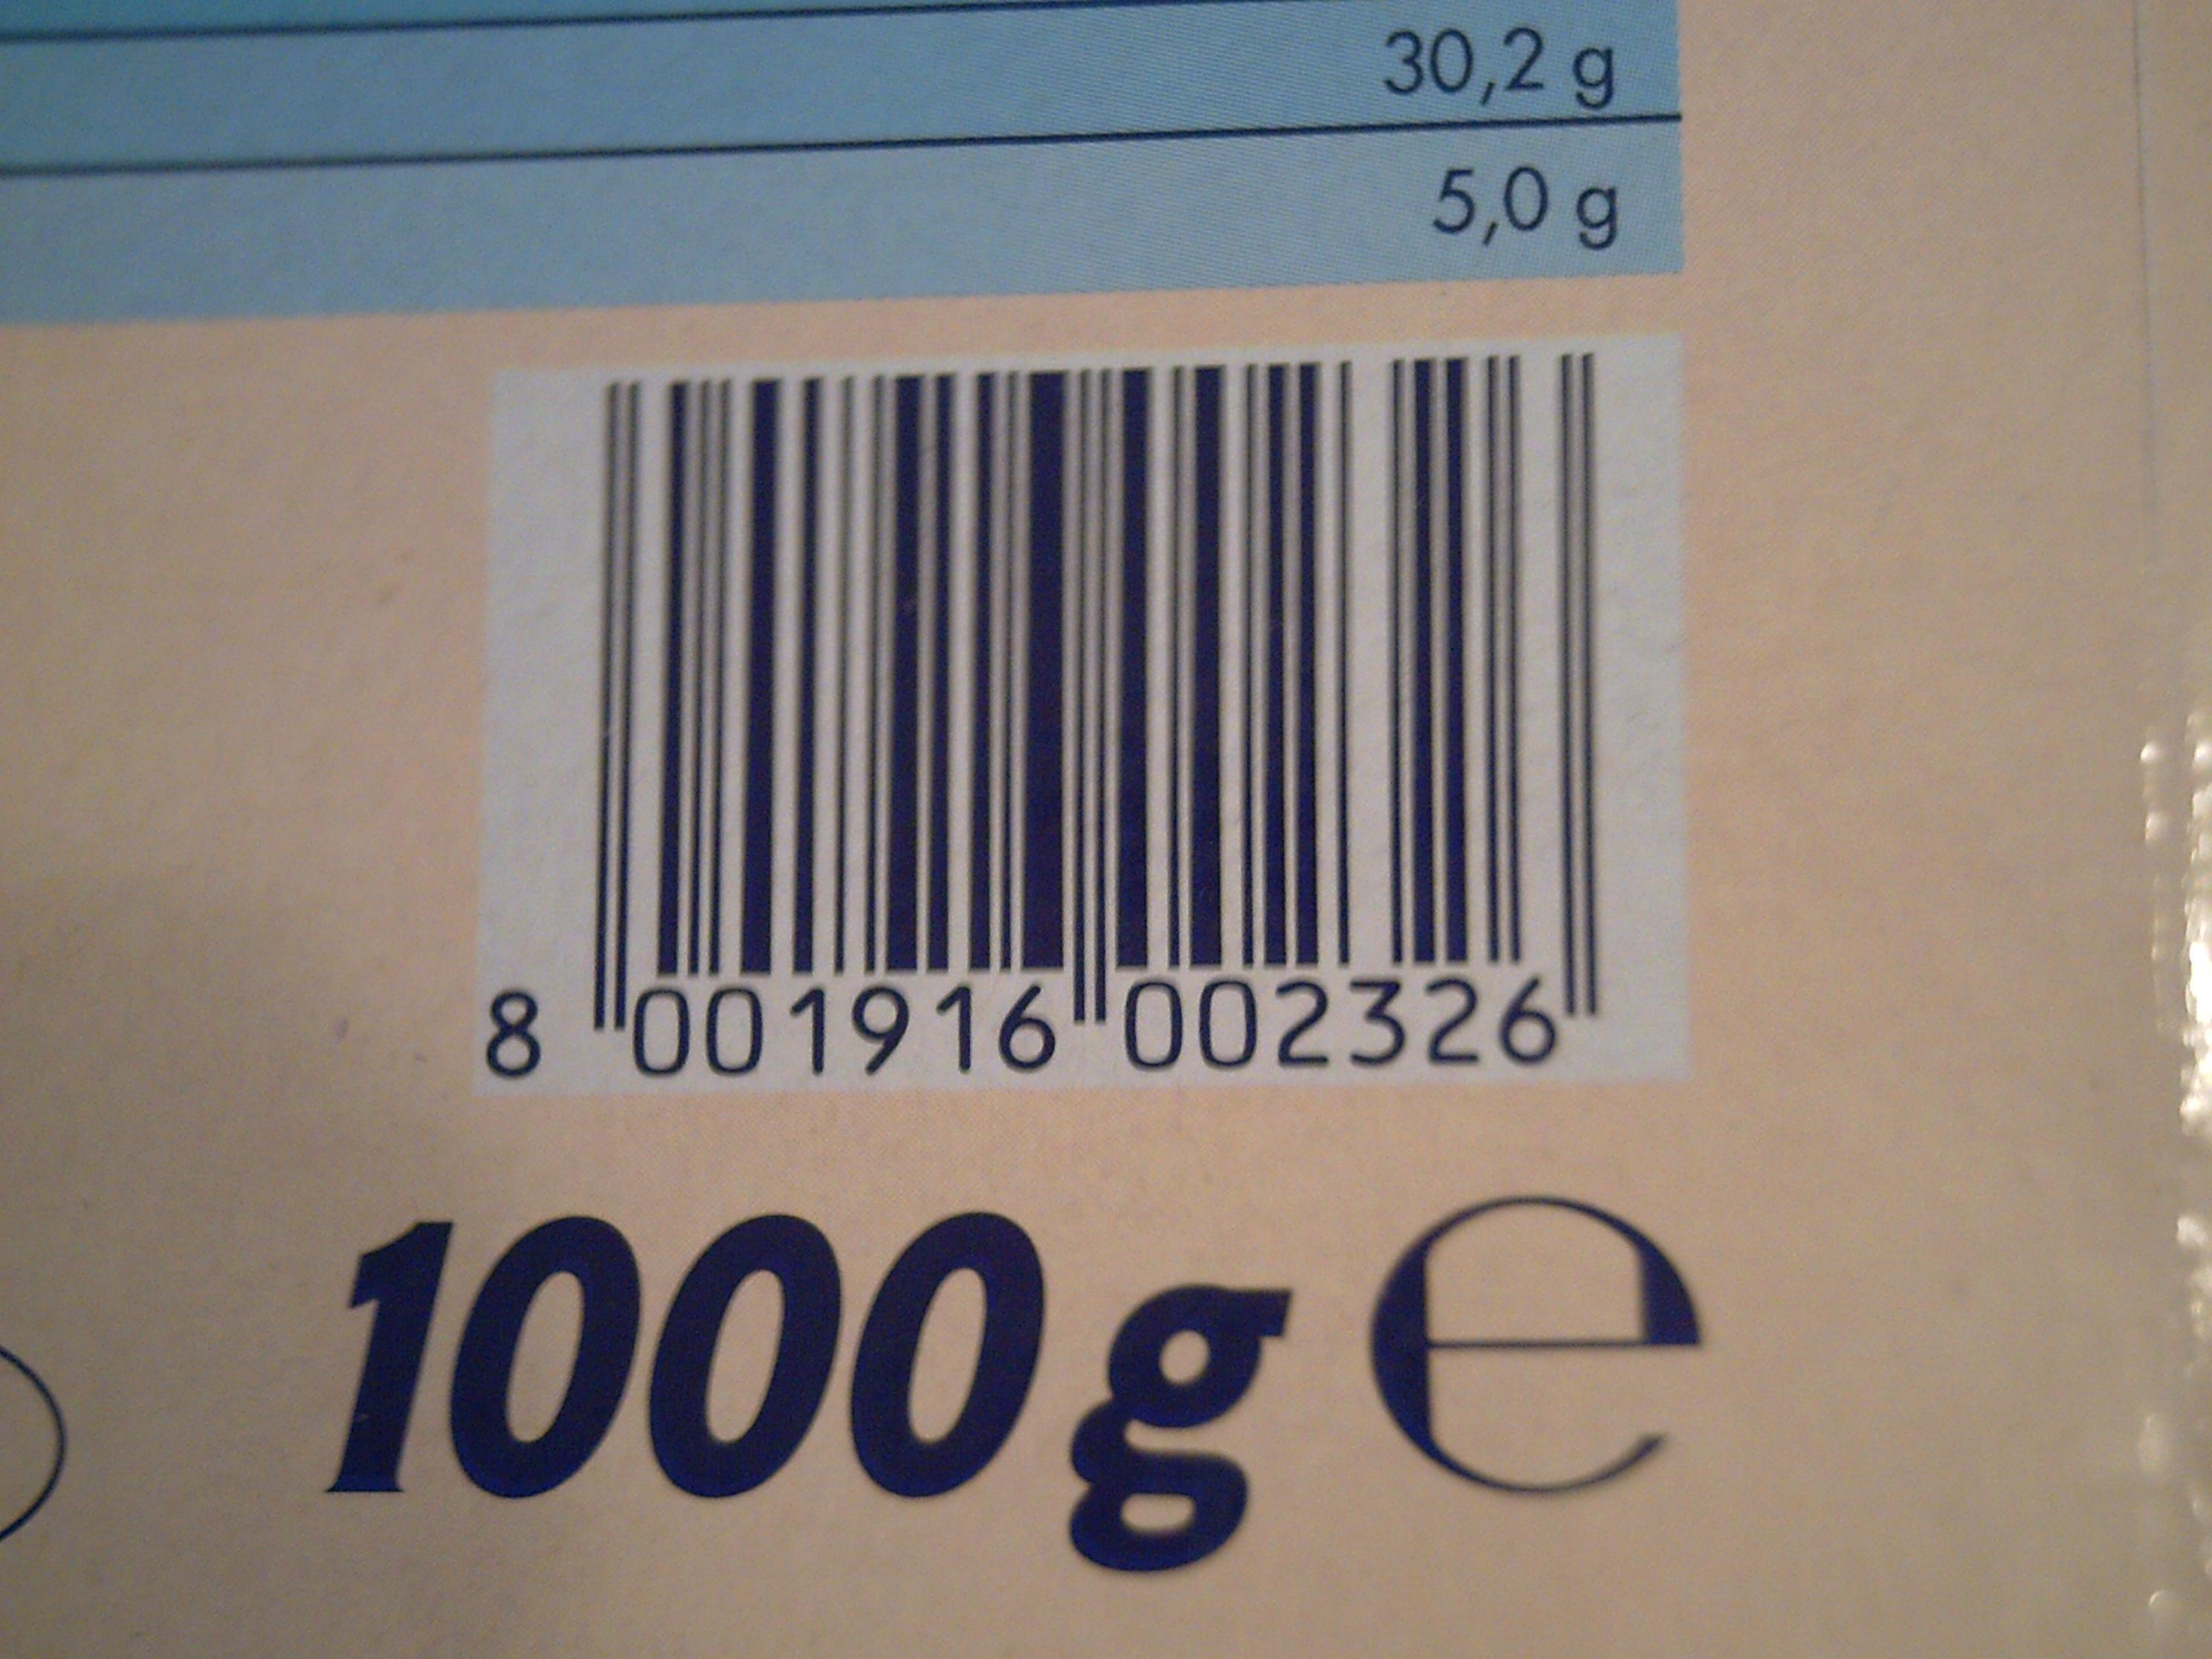barcode: (475, 333, 1688, 1094)
